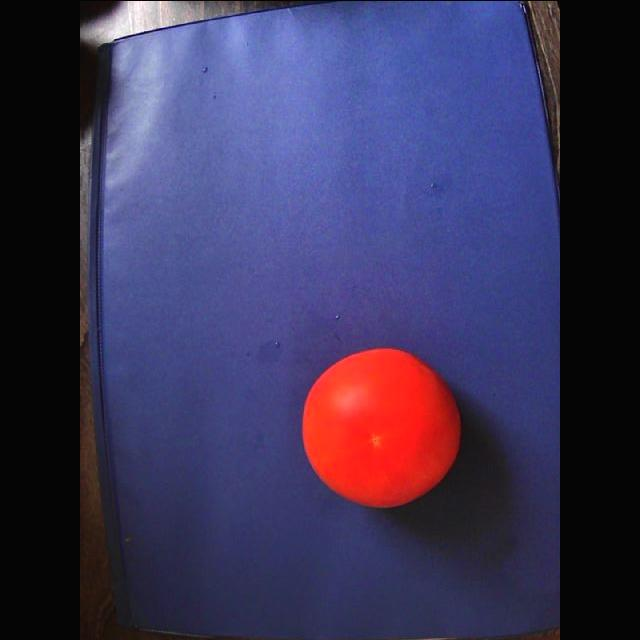tomate: (303, 348, 460, 507)
